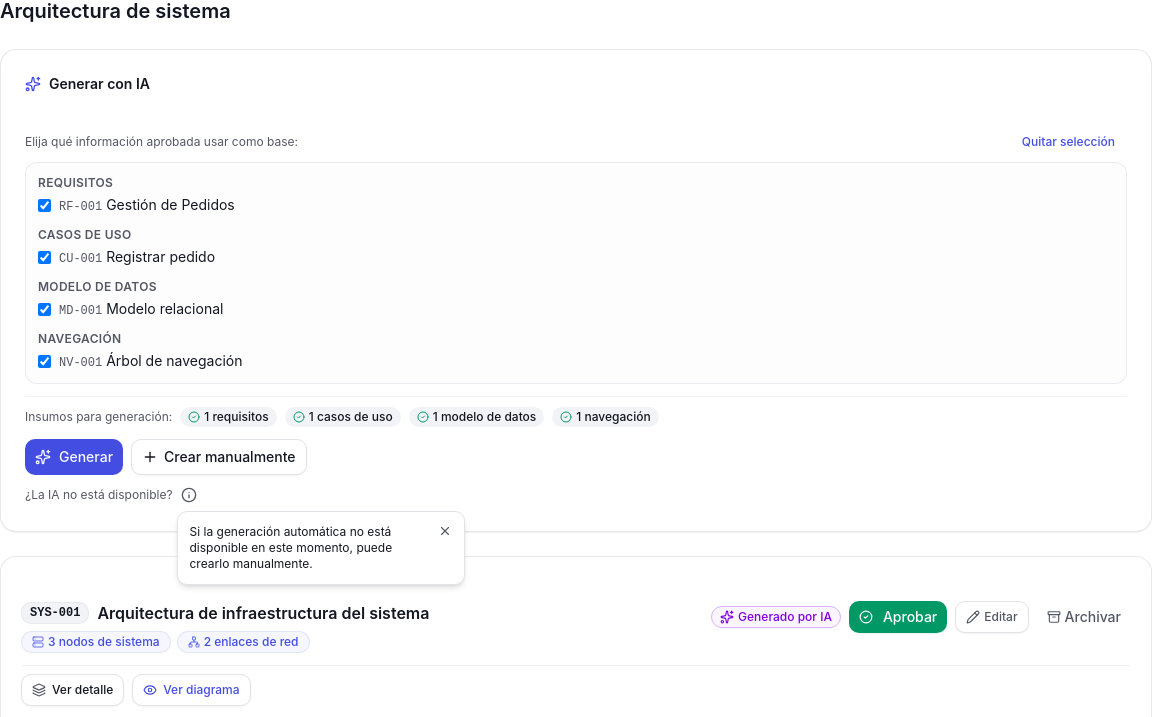
Scenario: SystemArchitecturePage › expands detail to view boundary banner, system node cards, and resolved link flow
Click the button "Ver detalle".
click(73, 690)  # box [21,674,124,706]
(page scrolled)
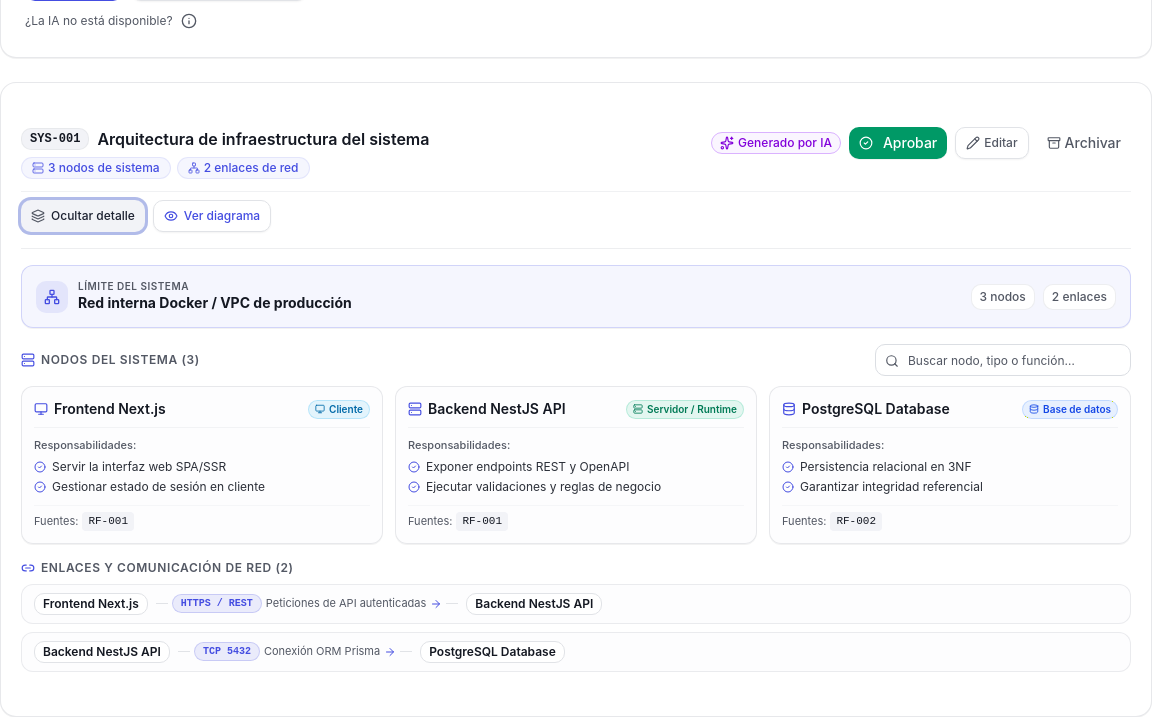
Check: the text "Límite del sistema" is shown, box [78,280,189,292]
Check: the text "Red interna Docker / VPC de producción" is shown, box [78,293,352,313]
Check: the heading "Nodos del sistema (3)" is shown, box [21,352,200,368]
